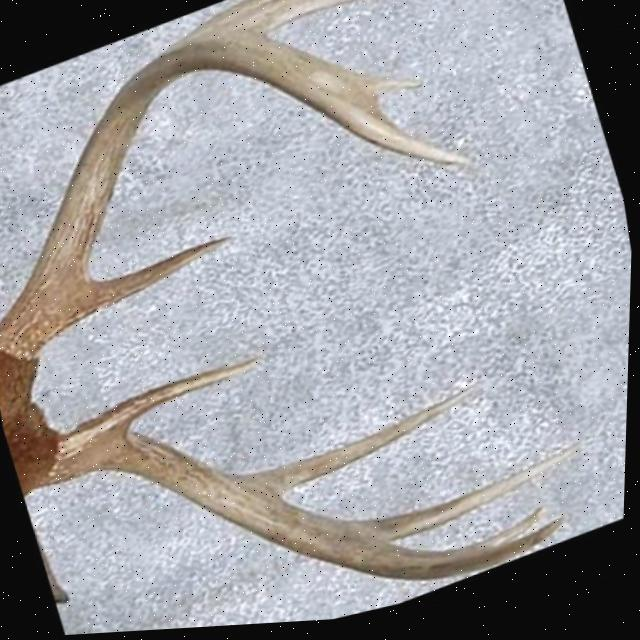L-E1: (465, 512, 549, 558)
L-F: (40, 420, 566, 586)
L-G1: (95, 357, 263, 434)
L-G2: (240, 393, 474, 506)
L-G3: (358, 450, 579, 548)
R-E1: (358, 79, 423, 100)
R-F: (0, 38, 472, 359)
R-G1: (74, 240, 228, 321)
R-G2: (164, 0, 291, 53)
R-G3: (223, 0, 377, 39)
